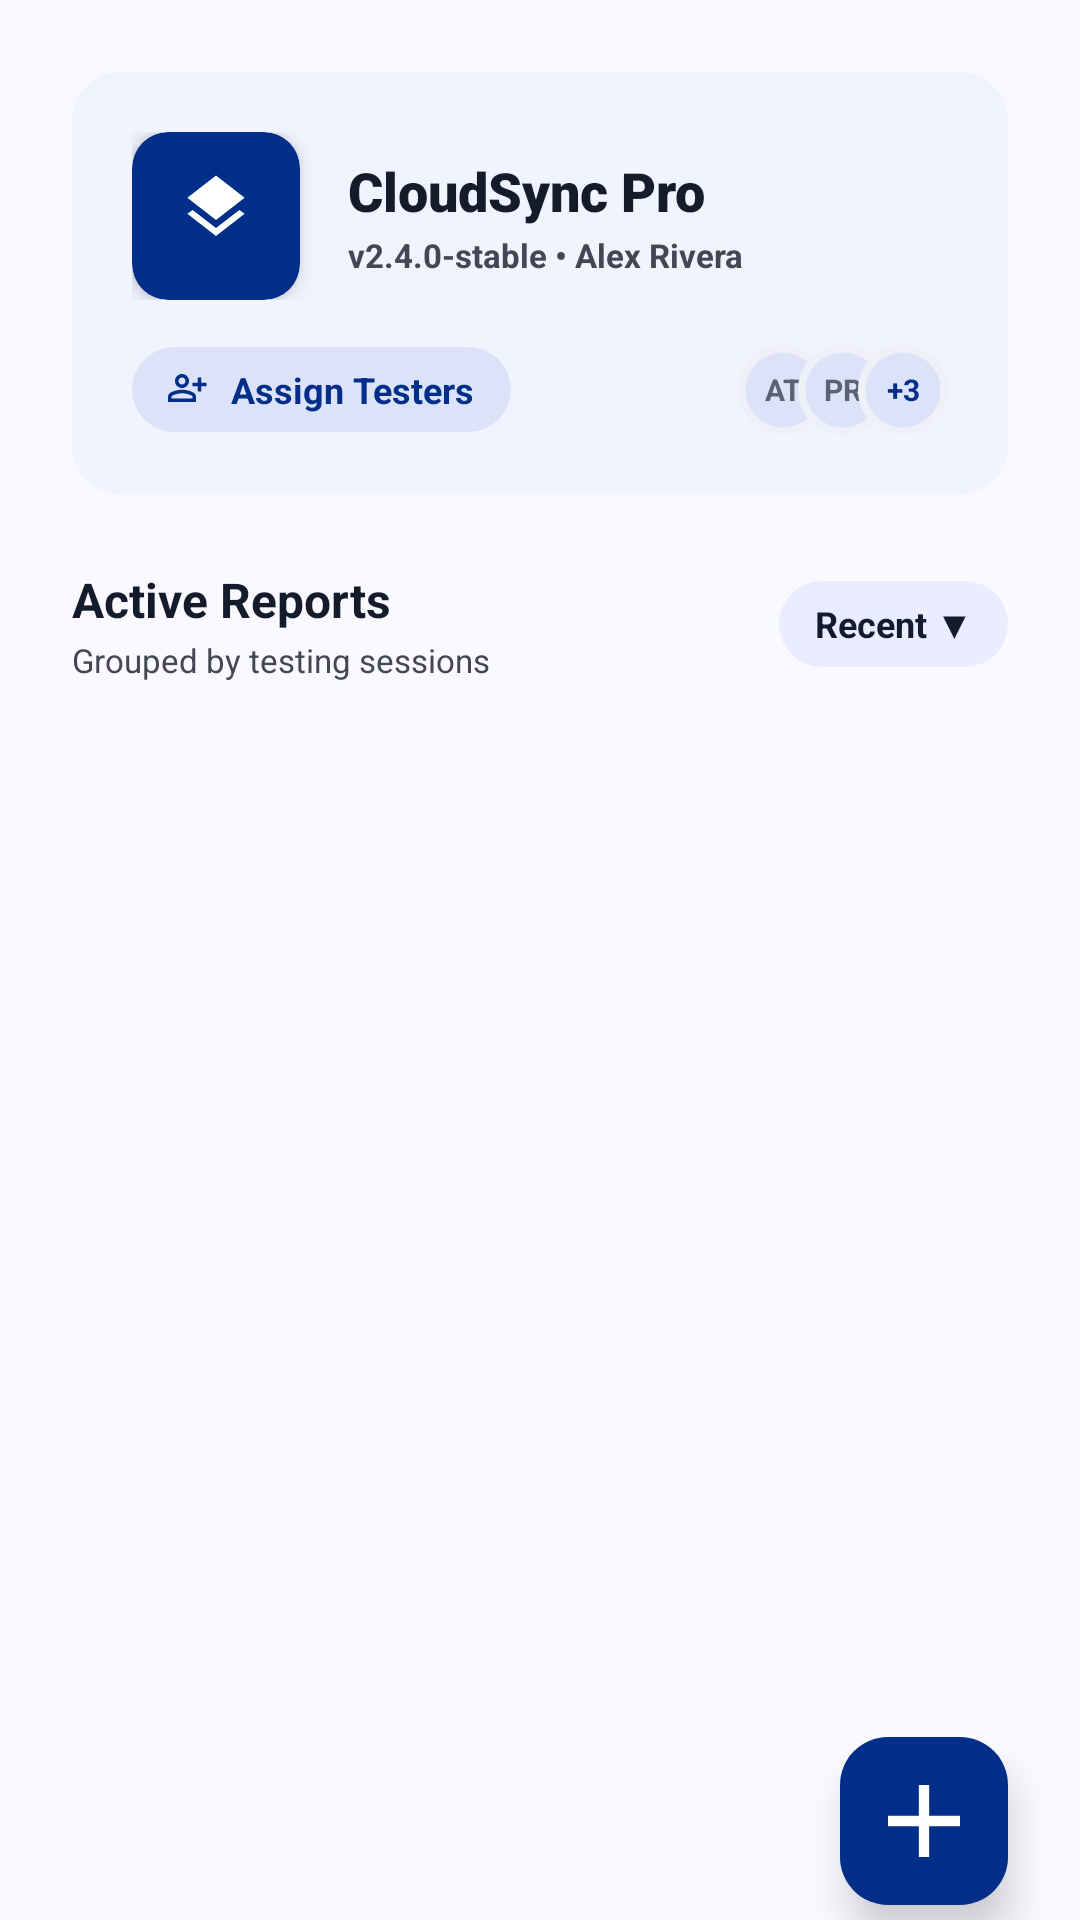

Screen size 1080px x 1920px. Icon name, then its center in pixels as [x,y]:
add plus: [924,1821]
stack: [216,216]
